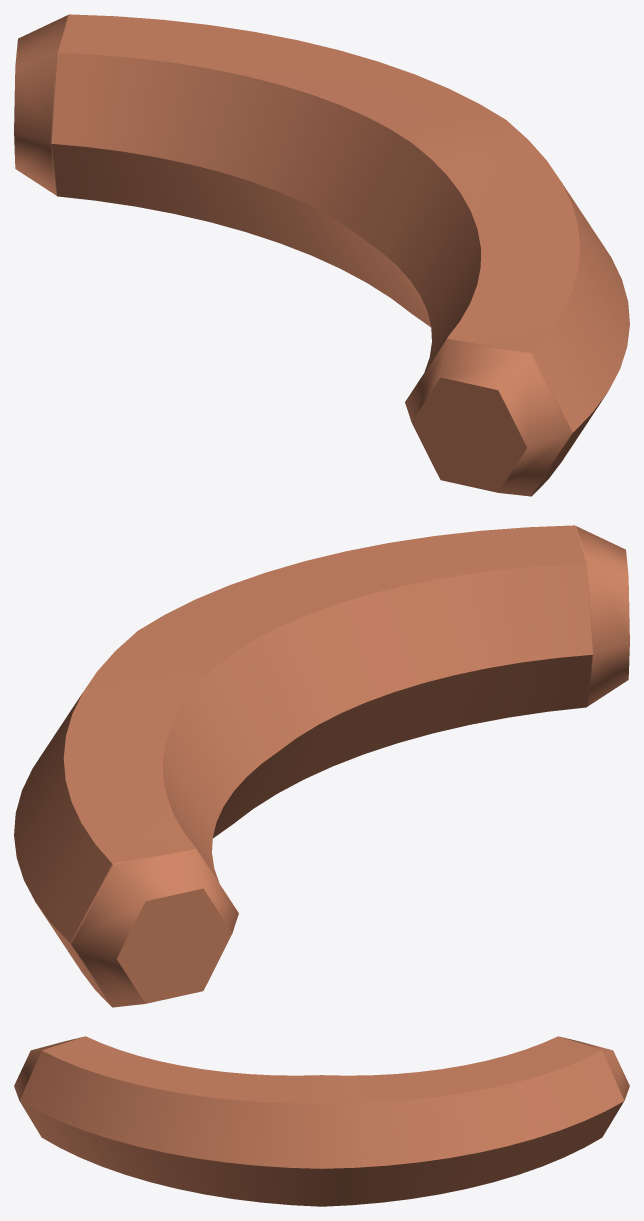
The model's file is meatSausage.obj.
3 renders of one model, top to bottom at view 1: azimuth 30°, elevation 25°; view 2: azimuth 150°, elevation 25°; view 3: azimuth 270°, elevation 25°, orthographic. The views are drawn at different scales.
Visible parts, largest first — view 1: meatSausage; view 2: meatSausage; view 3: meatSausage.
Part boxes in pixels (left/top/right/bottom): meatSausage: left=14, top=14, right=629, bottom=496; meatSausage: left=14, top=525, right=629, bottom=1007; meatSausage: left=14, top=1036, right=629, bottom=1206.
Bounding box in the file's own units: 0.1515 × 0.0727 × 0.3916.
